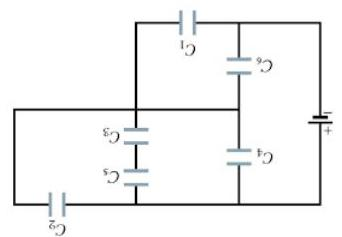Capacitor: (219, 46, 253, 83)
